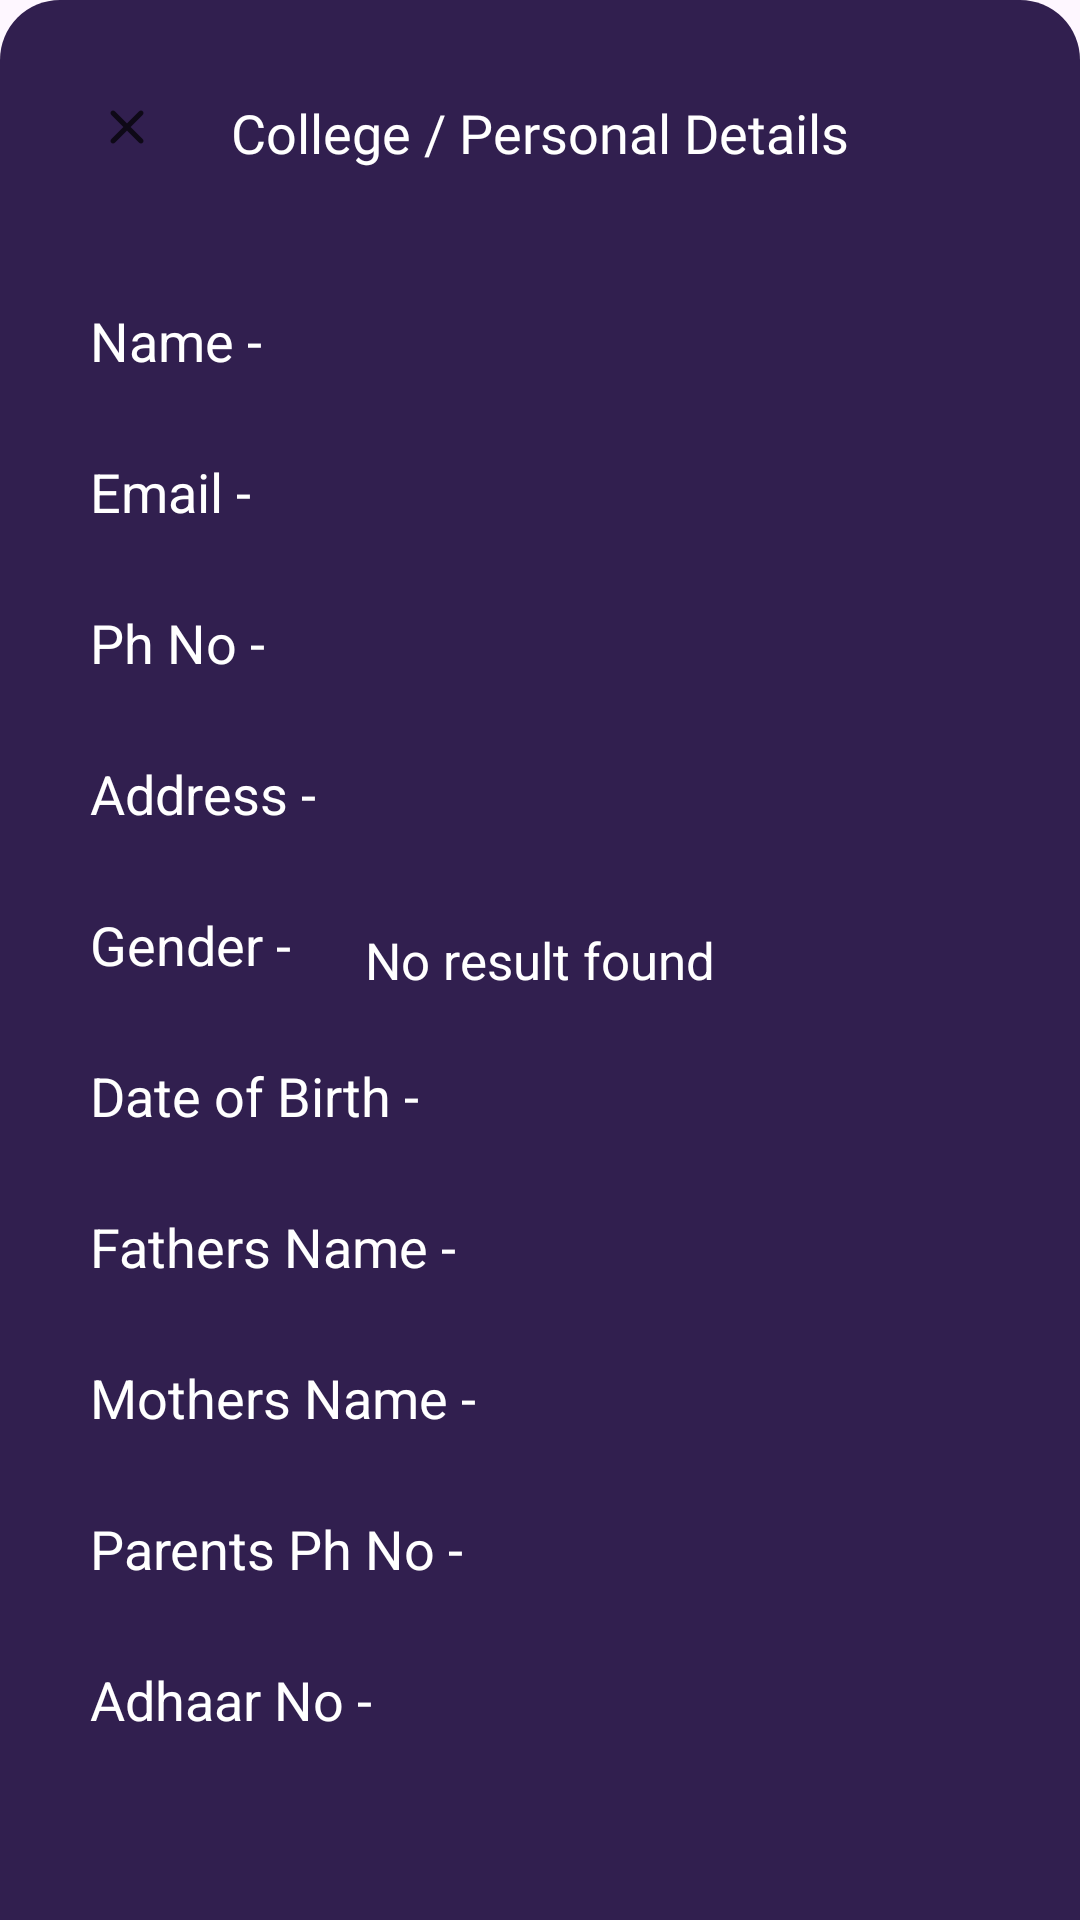

Where to tap for icons on this 1080px×1920px app screen, as [x,y]:
close: [127,127]
